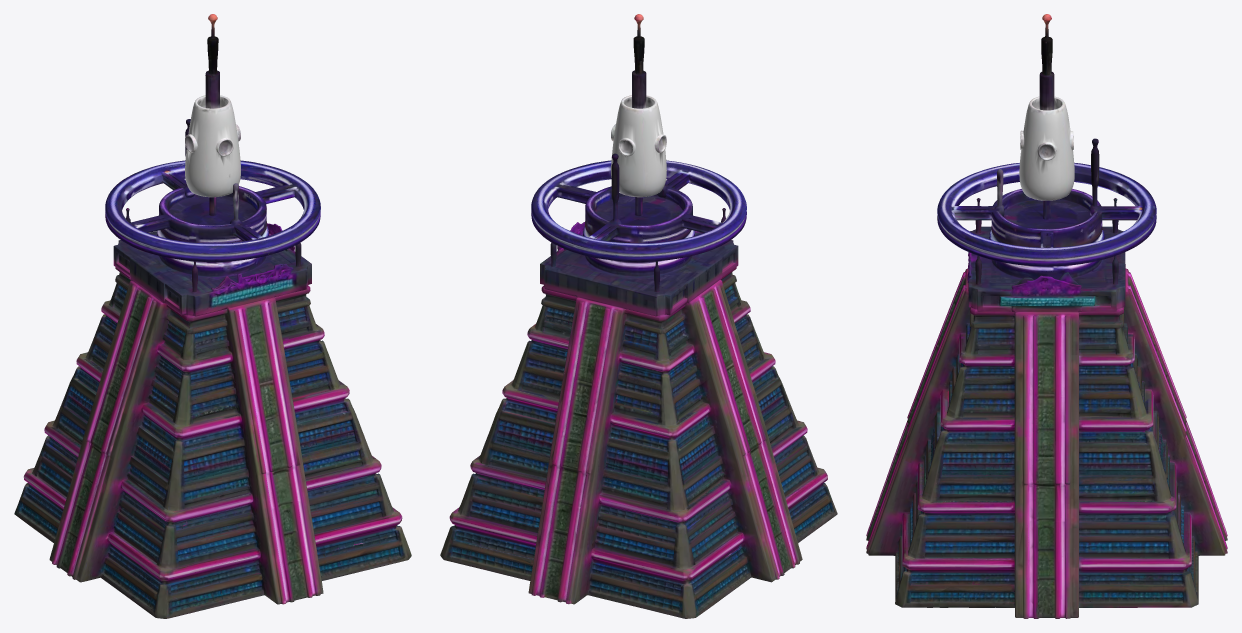
Rendered from tower-d.glb.
3 renders of one model, left to right at view 1: azimuth 30°, elevation 25°; view 2: azimuth 150°, elevation 25°; view 3: azimuth 270°, elevation 25°, orthographic.
Parts seen in each view (by area): view 1: material; view 2: material; view 3: material.
Boxes of the visible parts, box(x1,y1,x2,y2) form: material: box(14, 14, 411, 618); material: box(440, 14, 837, 618); material: box(866, 14, 1227, 618).
Size of the model in its own units: 0.5908 by 0.9775 by 0.6044.
1 material, 1 textured.
